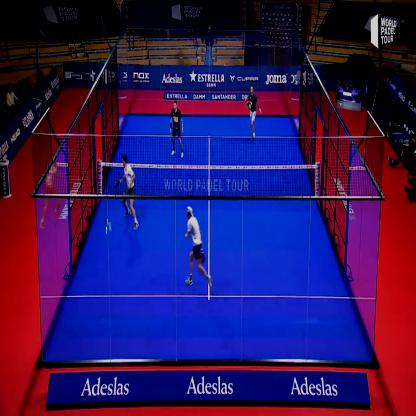ball: (107, 219, 114, 236)
